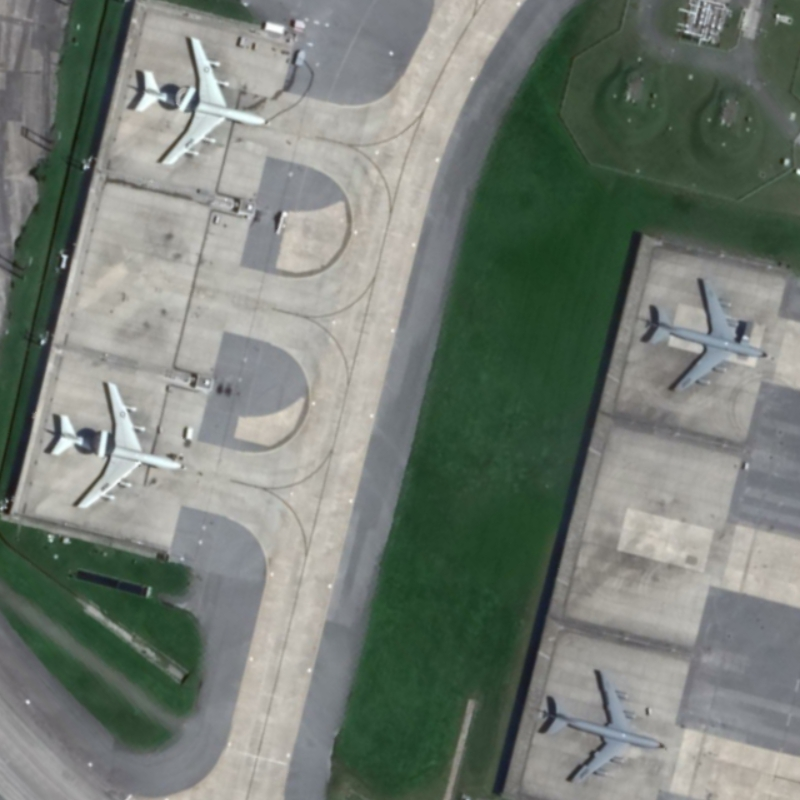A14: (639, 266, 775, 401), (534, 661, 670, 785)
A7: (37, 376, 194, 522), (125, 32, 275, 175)
